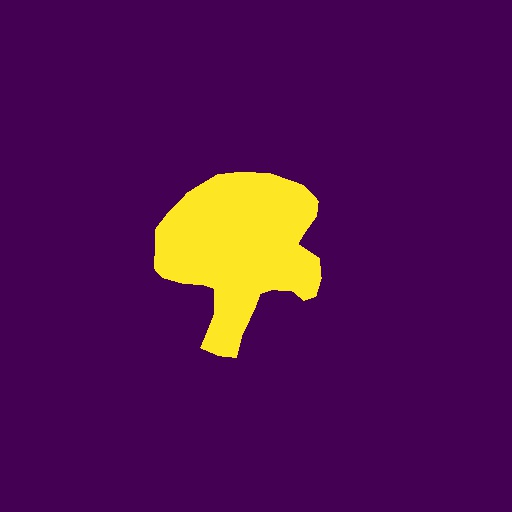Gliomia_tumour: (154, 172, 322, 358)
